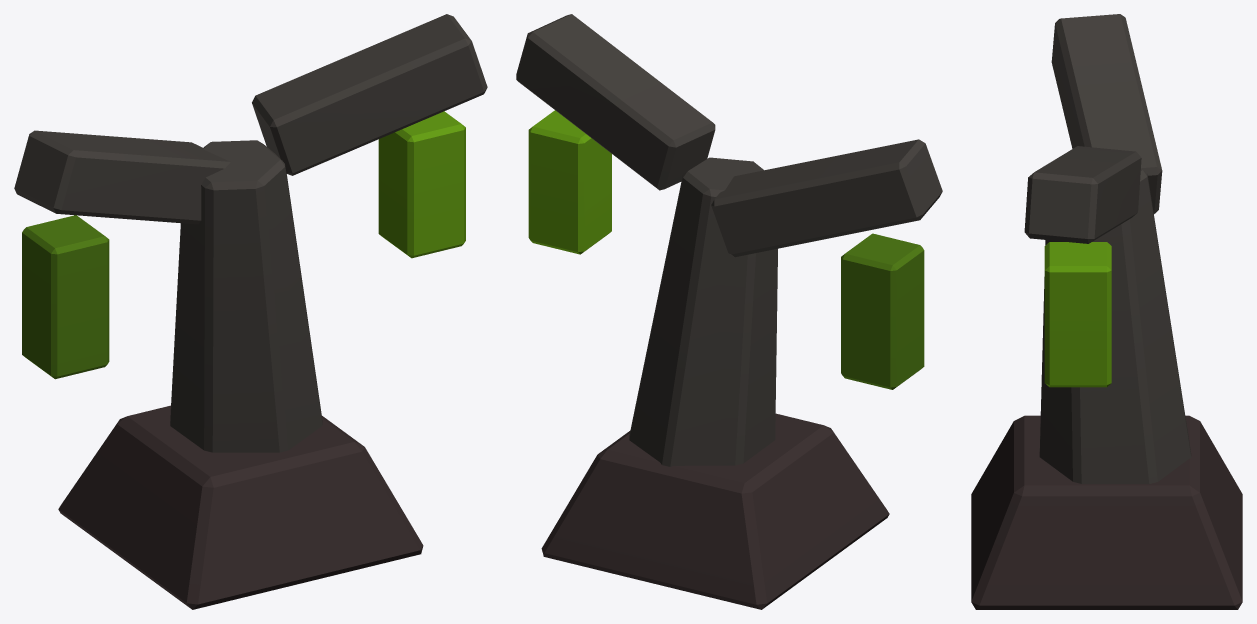
File: tree_swamp.glb
The picture shows the model from 3 angles, left to right: view 1: azimuth 30°, elevation 25°; view 2: azimuth 150°, elevation 25°; view 3: azimuth 270°, elevation 25°; orthographic projection. The views are drawn at different scales.
Parts seen in each view (by area): view 1: tree_swamp; view 2: tree_swamp; view 3: tree_swamp.
Part boxes in pixels (x1,y1,x2,y2): tree_swamp: [14, 14, 487, 609]; tree_swamp: [516, 14, 942, 609]; tree_swamp: [971, 14, 1242, 609].
Size of the model in its own units: 1.06 by 1.09 by 0.5675.
